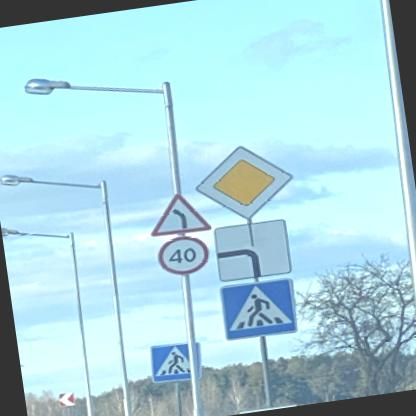crosswalk: (215, 276, 297, 341), (144, 338, 199, 383)
speedlimit: (151, 232, 208, 277)
